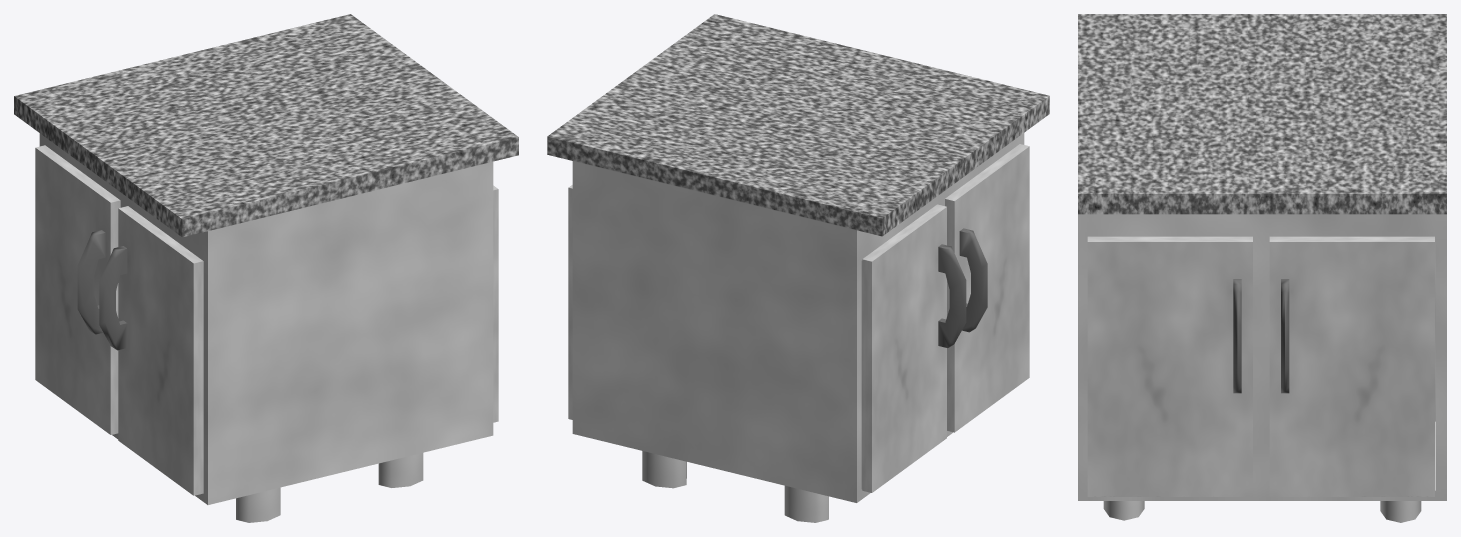
Rendered from dolpa.fbx.
3 views of the same model, side by side, from view 1: azimuth 30°, elevation 25°; view 2: azimuth 150°, elevation 25°; view 3: azimuth 270°, elevation 25° (orthographic). The views are drawn at different scales.
Parts seen in each view (by area): view 1: Cube, Cube.002, Cube.004, Cube.003; view 2: Cube, Cube.004, Cube.002, Cube.001; view 3: Cube, Cube.001, Cube.003.
Part boxes in pixels (<box>): Cube: <box>14,14,518,522</box>; Cube.002: <box>99,206,203,495</box>; Cube.004: <box>35,145,120,434</box>; Cube.003: <box>493,185,498,422</box>; Cube: <box>547,14,1049,522</box>; Cube.004: <box>861,204,966,492</box>; Cube.002: <box>945,144,1029,432</box>; Cube.001: <box>568,185,572,419</box>; Cube: <box>1078,14,1446,522</box>; Cube.001: <box>1269,236,1434,496</box>; Cube.003: <box>1087,236,1252,496</box>.
Bounding box in the file's own units: 250 × 225 × 204.
2 materials, 2 textured.
